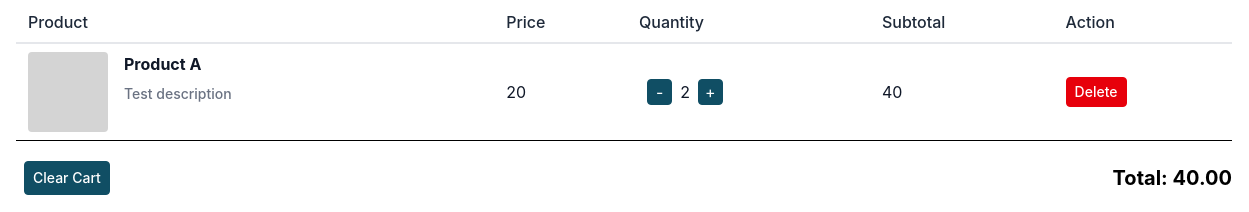
Test: Cart component › should decrease product quantity and update total price
Click the button "-" at (660, 92), box left=647, top=79, right=672, bottom=105
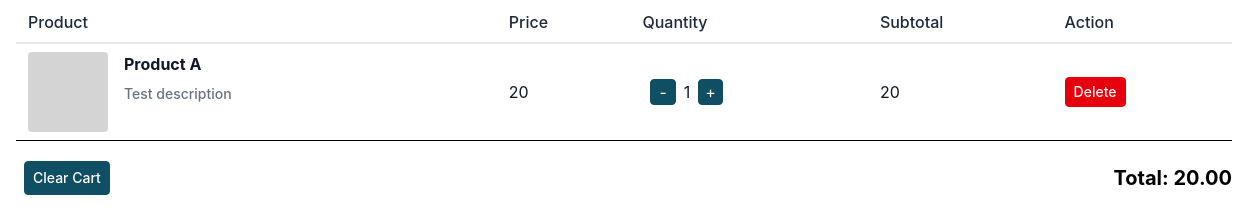
Expected: the text "20" is shown 2 times, left=497, top=43, right=630, bottom=140; left=868, top=43, right=1053, bottom=140
Now the heading "Total: 20.00" is shown, box left=1114, top=164, right=1232, bottom=192
